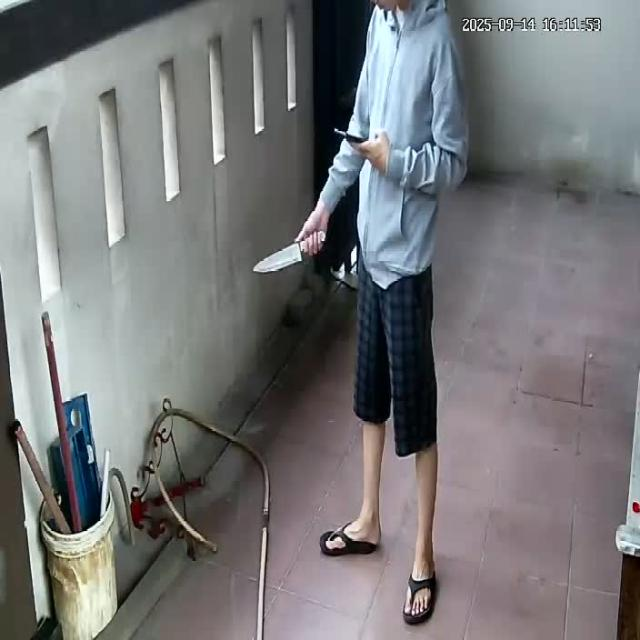senjata_tajam: (250, 238, 305, 277)
